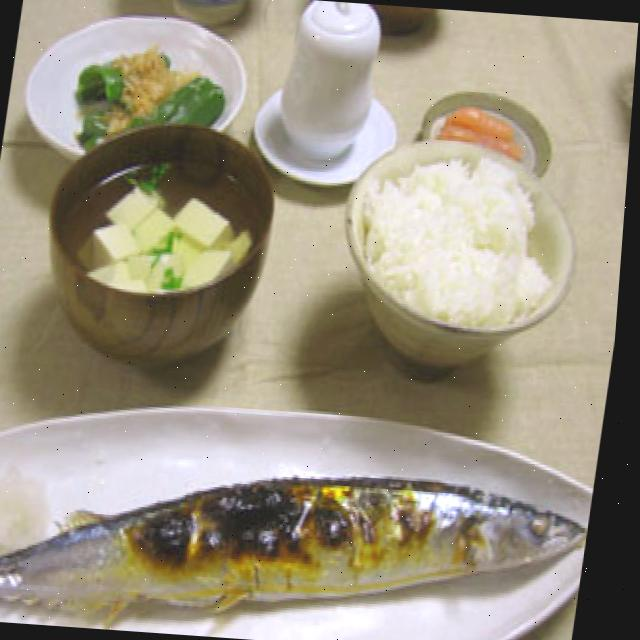熟制海鲜: (0, 399, 609, 640)
